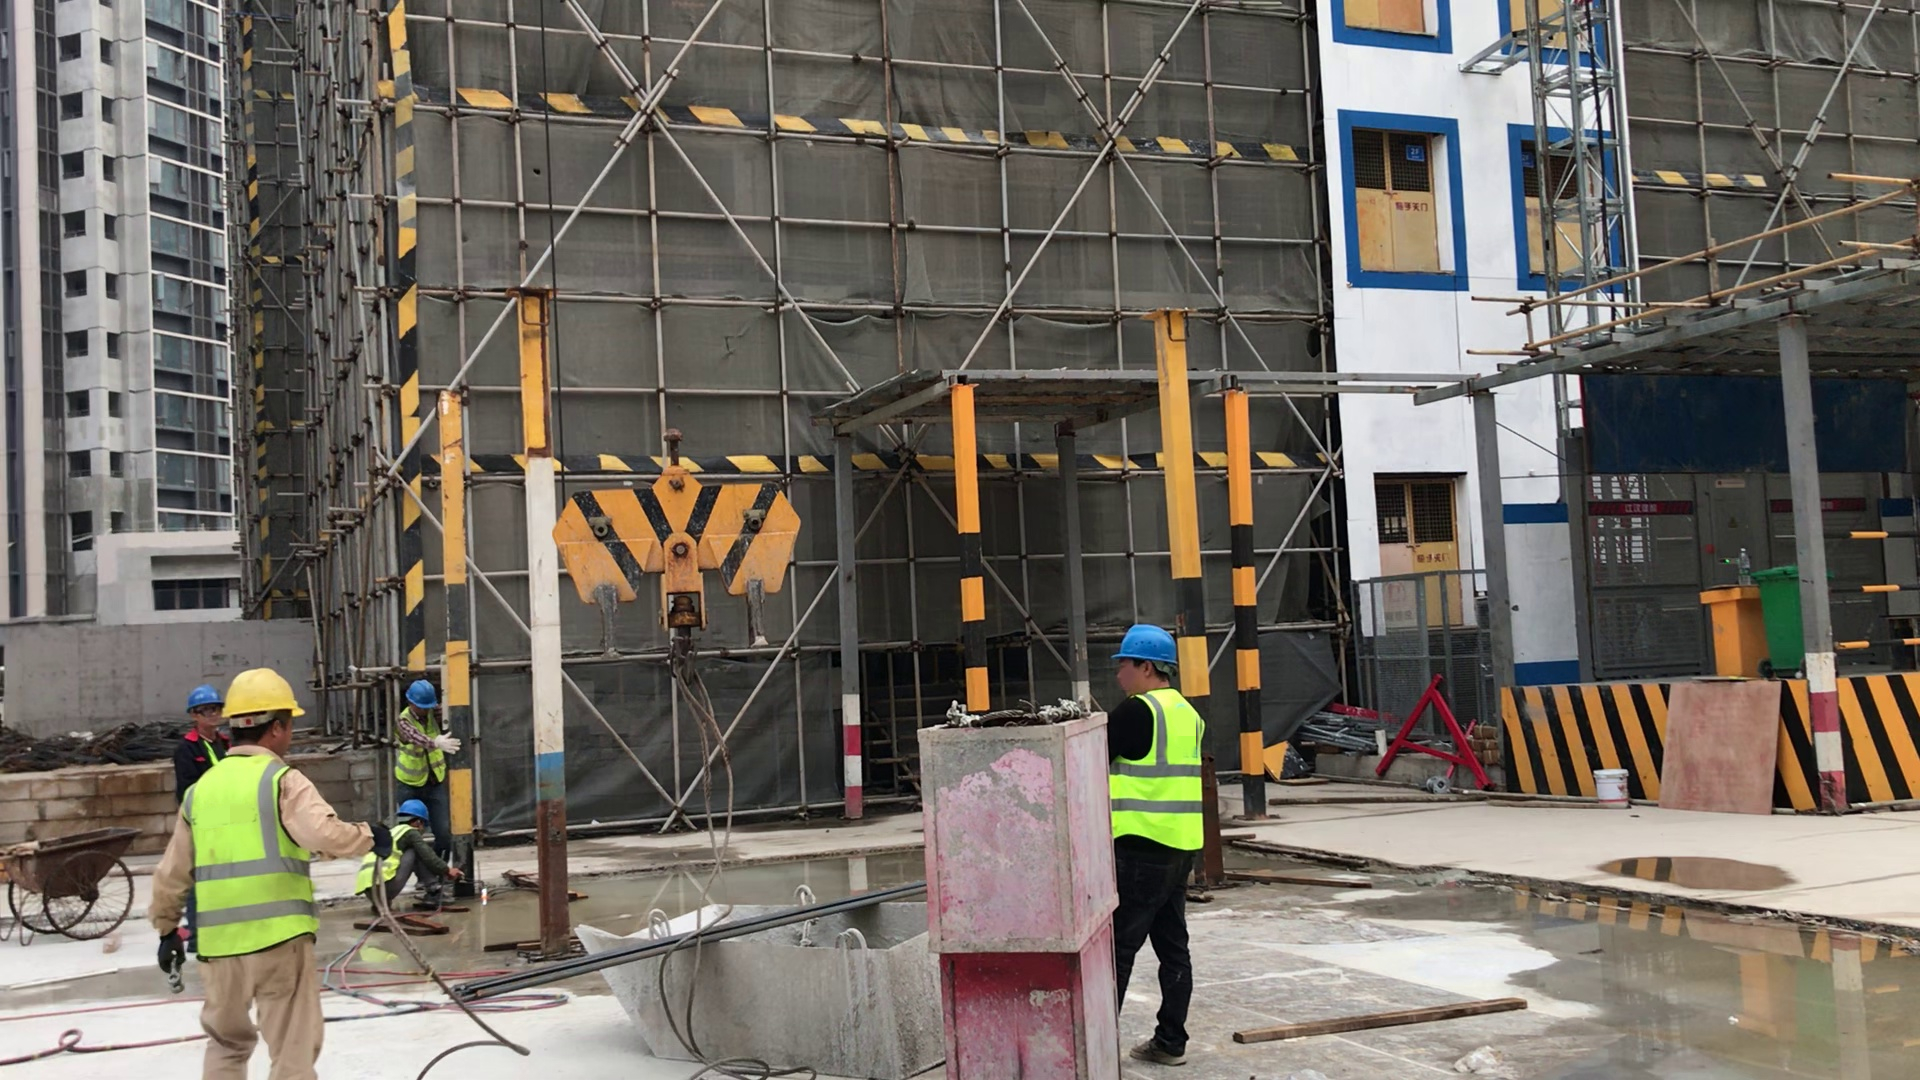fence: (1818, 515, 1920, 674)
handcart: (2, 808, 146, 949)
helmet: (217, 658, 317, 727), (1112, 619, 1189, 680), (400, 673, 446, 716), (393, 795, 436, 829), (181, 681, 224, 711)
hook: (507, 404, 849, 726)
hopper: (553, 861, 984, 1080)
person: (198, 672, 457, 1080), (1088, 618, 1248, 1068), (367, 789, 465, 930), (383, 669, 474, 807), (169, 681, 224, 801)
rebar: (442, 881, 929, 1007)
vest: (175, 751, 332, 965), (1102, 687, 1221, 865), (388, 708, 459, 795), (363, 810, 427, 904), (181, 723, 225, 772)
